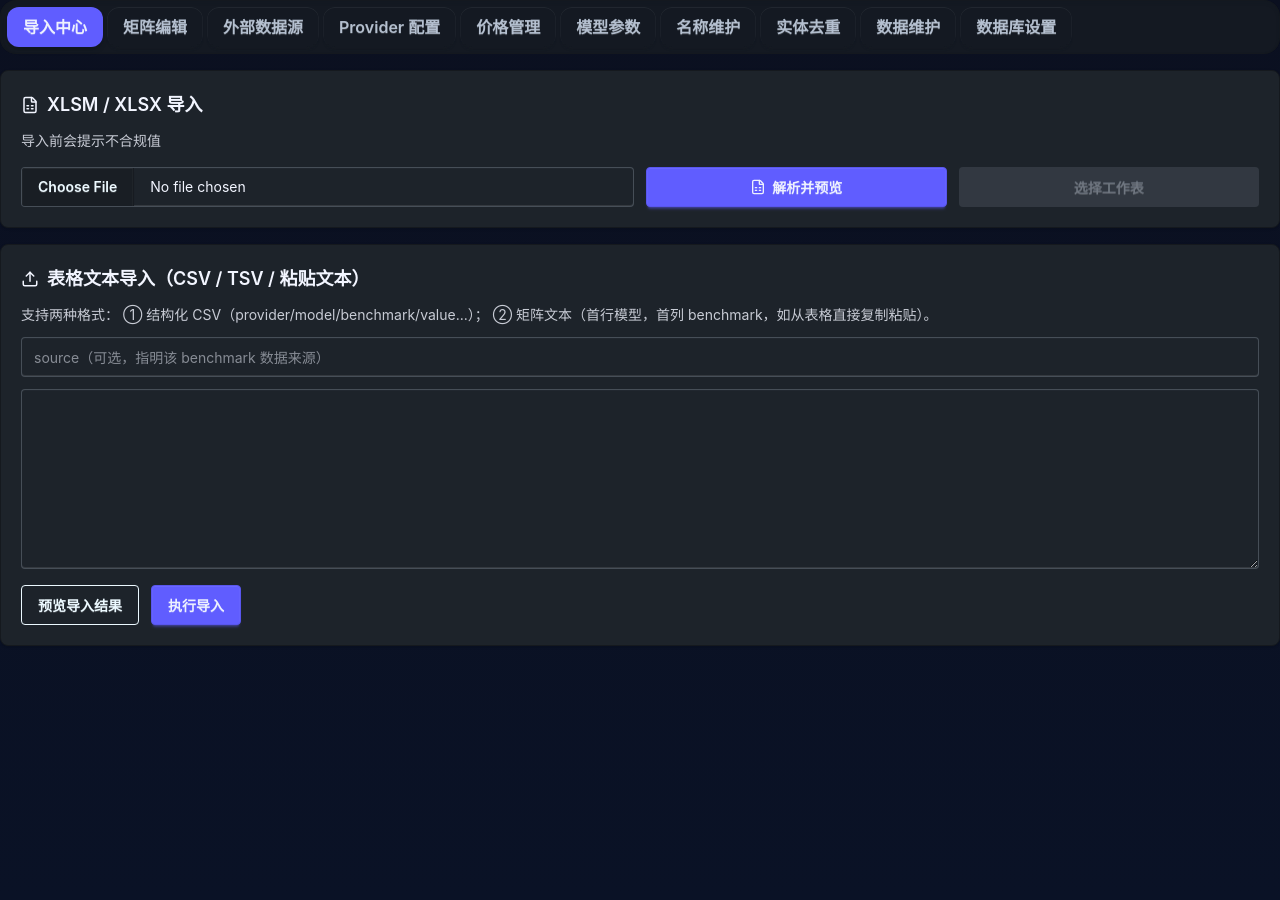
AdminConsole text import › 价格管理状态筛选应响应未保存的手动覆盖草稿
Step 1. Click the tab "价格管理" → click(508, 27), box [460,7,556,47]
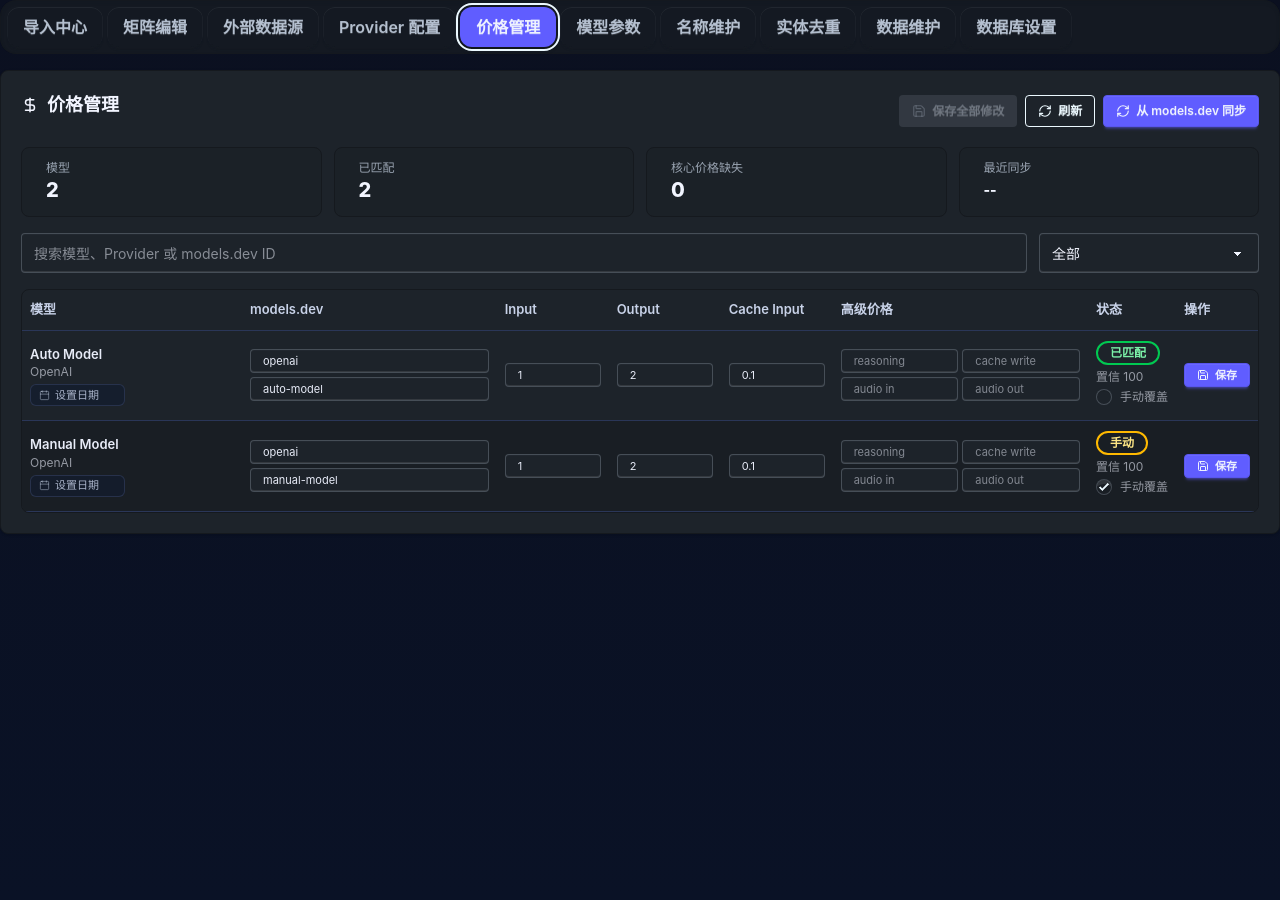
Result: the text "Auto Model" is shown at [30,344,102,364]
Result: the text "Manual Model" is shown at [30,435,119,454]
Step 2. Select "已匹配" in the dropdown showing "全部" → (1149, 253), box [1039,233,1259,273]
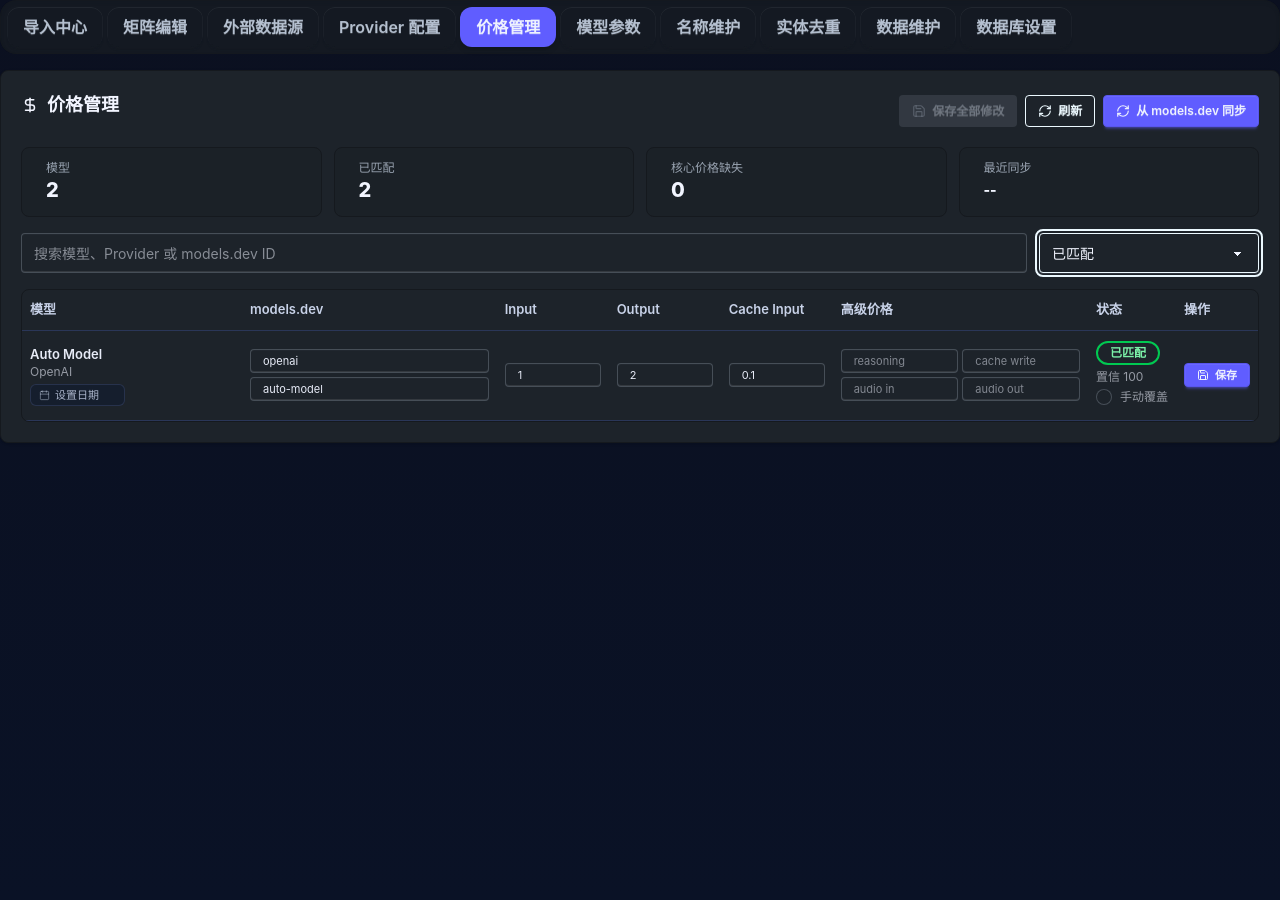
Result: the text "Auto Model" is shown at [30,344,102,364]
Result: the text "Manual Model" is gone
Step 3. Click the checkbox → click(1104, 396), box [1096,388,1112,404]
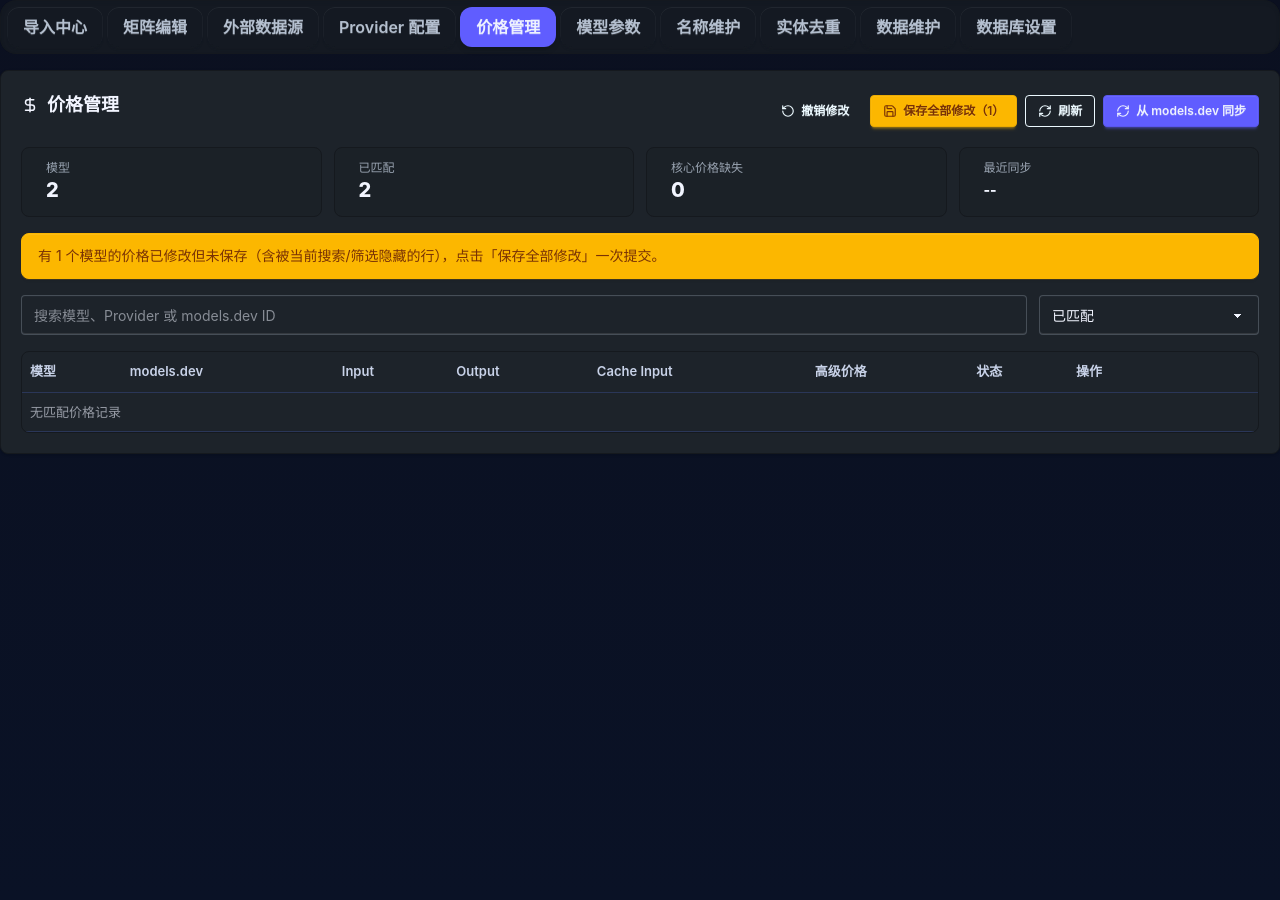
Result: the text "Auto Model" is gone
Step 4. Select "手动覆盖" in the dropdown showing "全部" → (1149, 315), box [1039,295,1259,335]
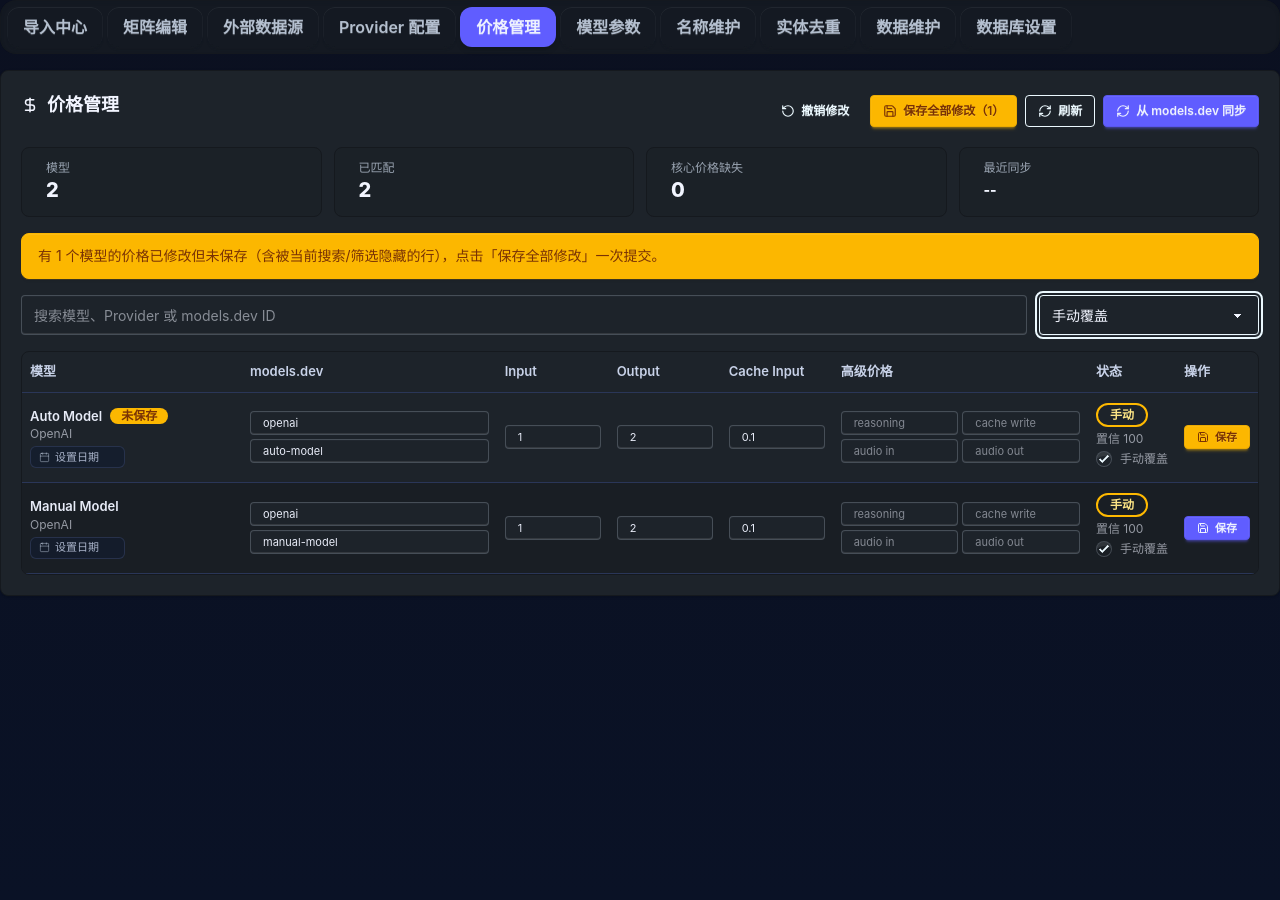
Result: the text "Auto Model" is shown at [30,406,102,426]
Result: the text "Manual Model" is shown at [30,497,119,516]
Step 5. Click the 2nd checkbox labelled "手动覆盖" → click(1104, 549), box [1096,541,1112,557]
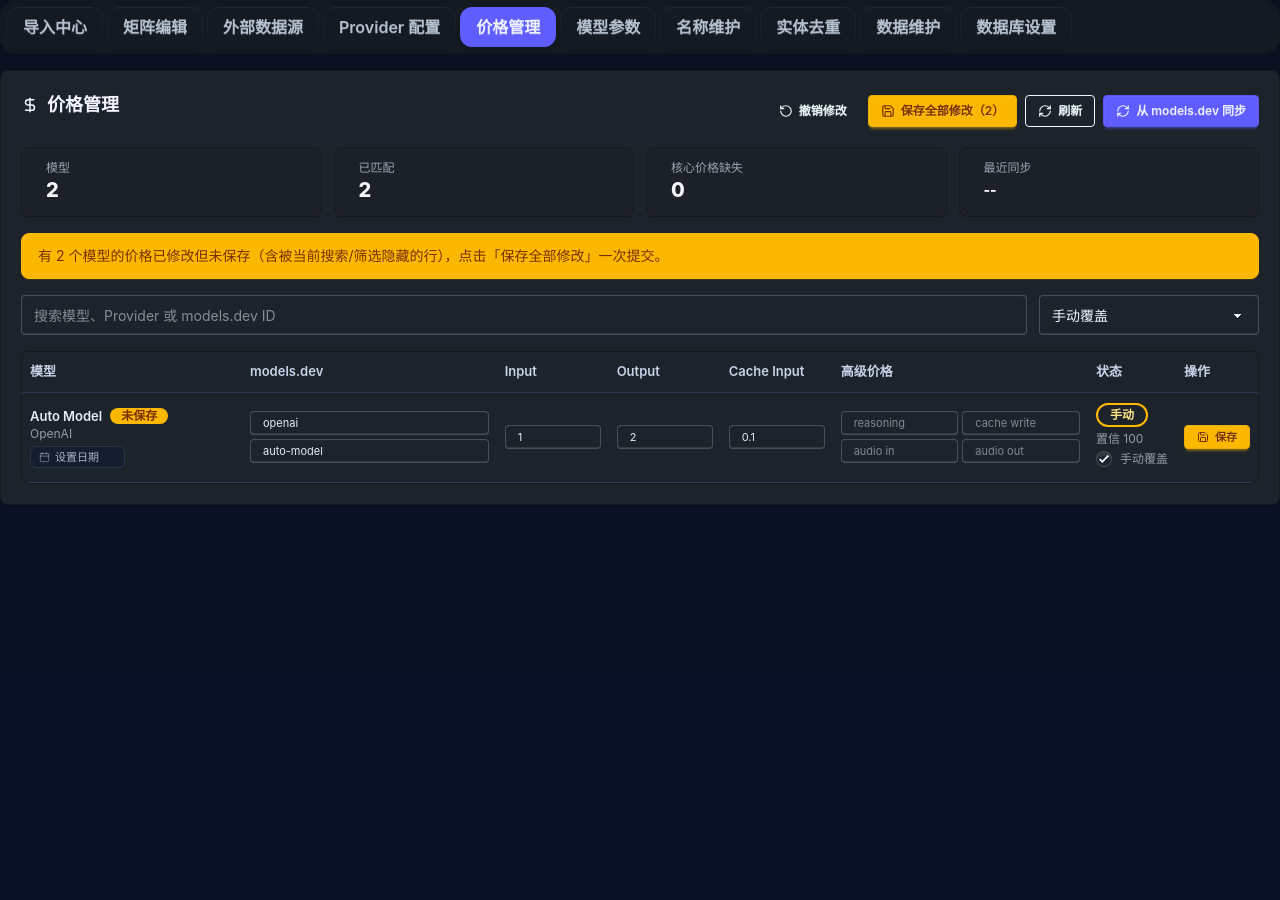
Result: the text "Manual Model" is gone
Step 6. Select "已匹配" in the dropdown showing "全部" → (1149, 315), box [1039,295,1259,335]
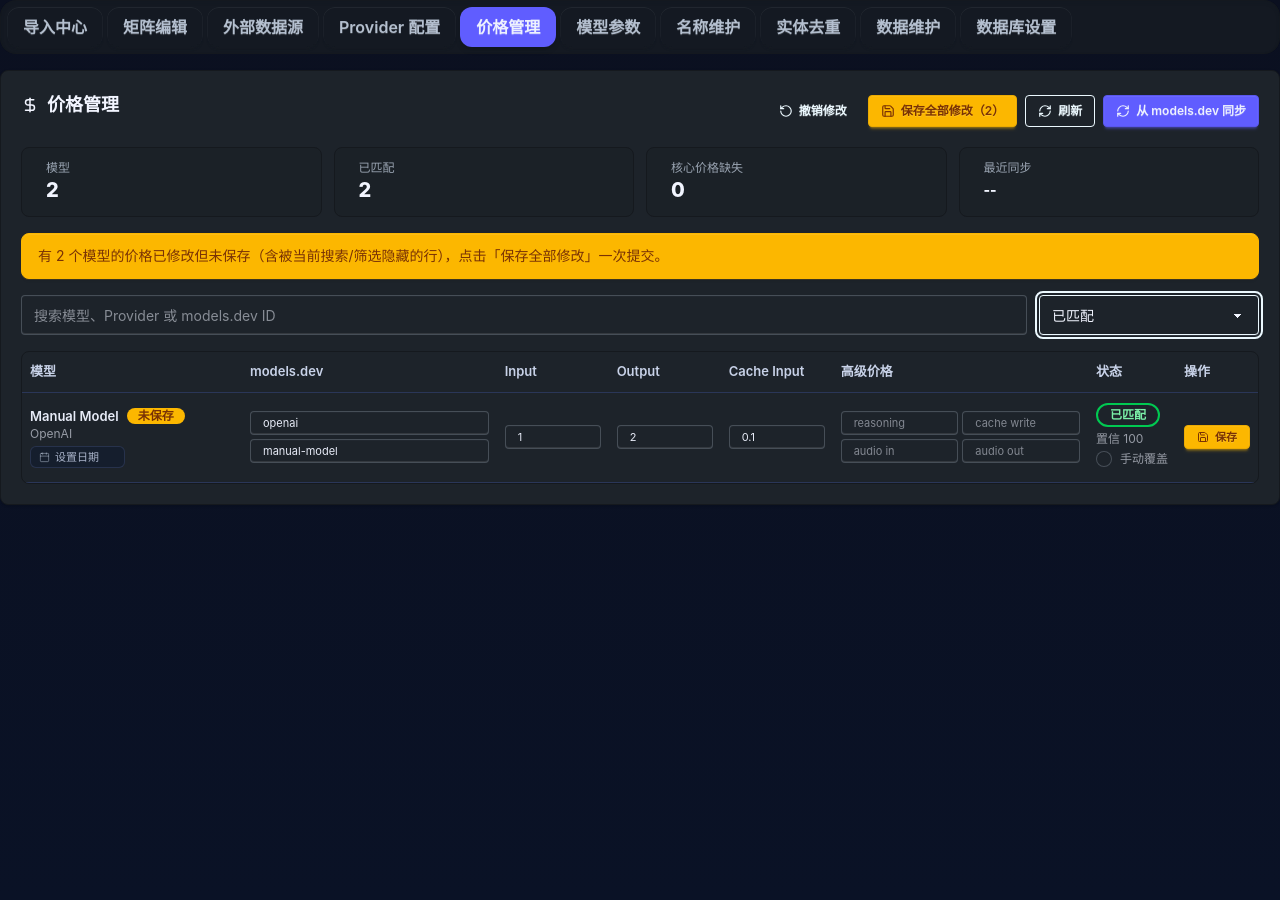
Result: the text "Manual Model" is shown at [30,406,119,426]
Result: the text "Auto Model" is gone
